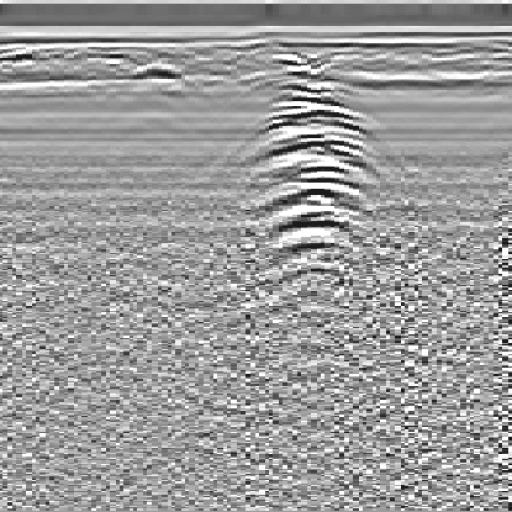metalic: (209, 49, 423, 290)
